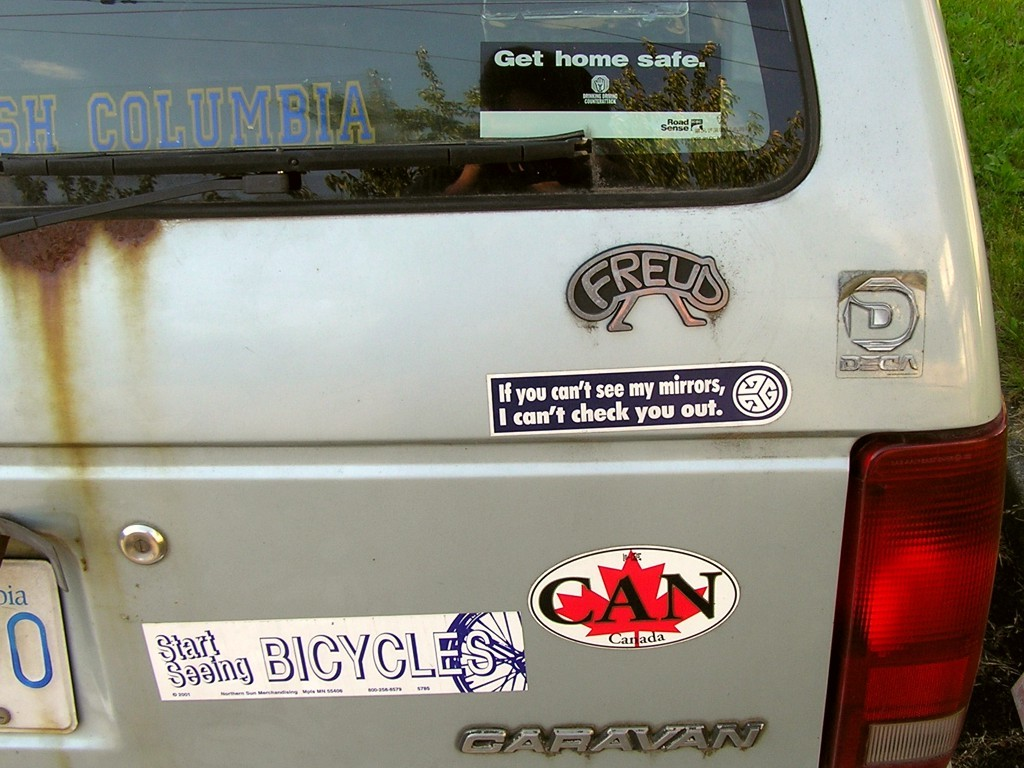Car: (0, 0, 1011, 767)
